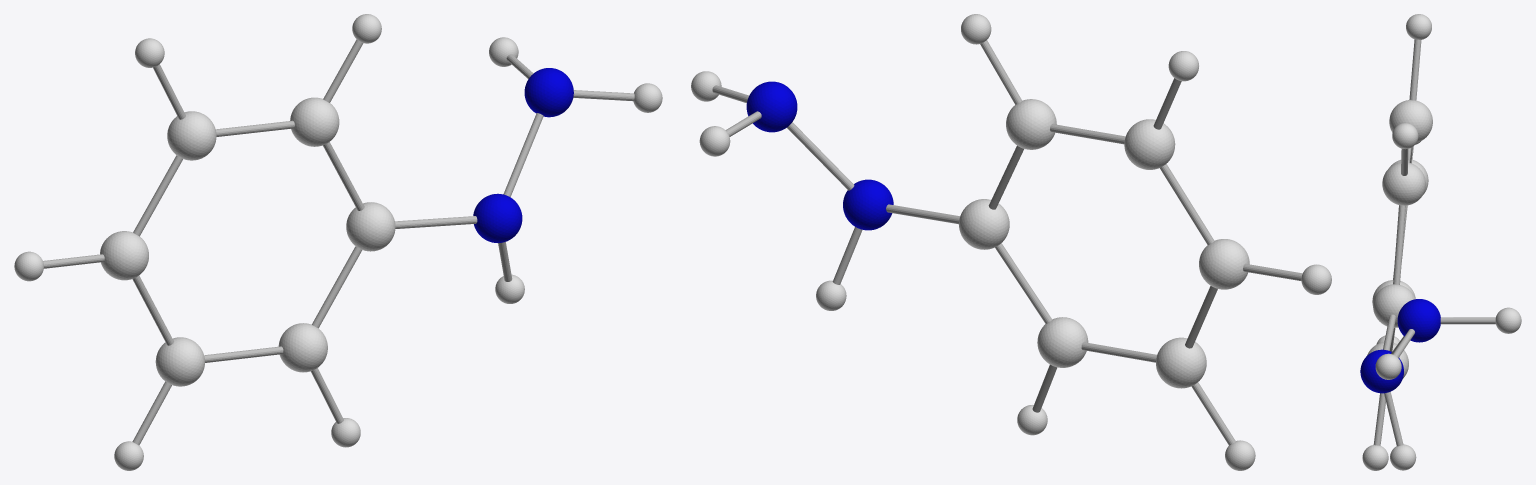
The model's file is c1ccccc1NN.glb.
3 views of the same model, side by side, from view 1: azimuth 30°, elevation 25°; view 2: azimuth 150°, elevation 25°; view 3: azimuth 270°, elevation 25° (orthographic). The views are drawn at different scales.
Visible parts, largest first — view 1: world; view 2: world; view 3: world.
Part boxes in pixels (x1,y1,x2,y2): world: [14, 14, 662, 470]; world: [691, 14, 1331, 470]; world: [1360, 14, 1521, 470].
Size of the model in its own units: 7.37 by 4.8 by 1.84.
